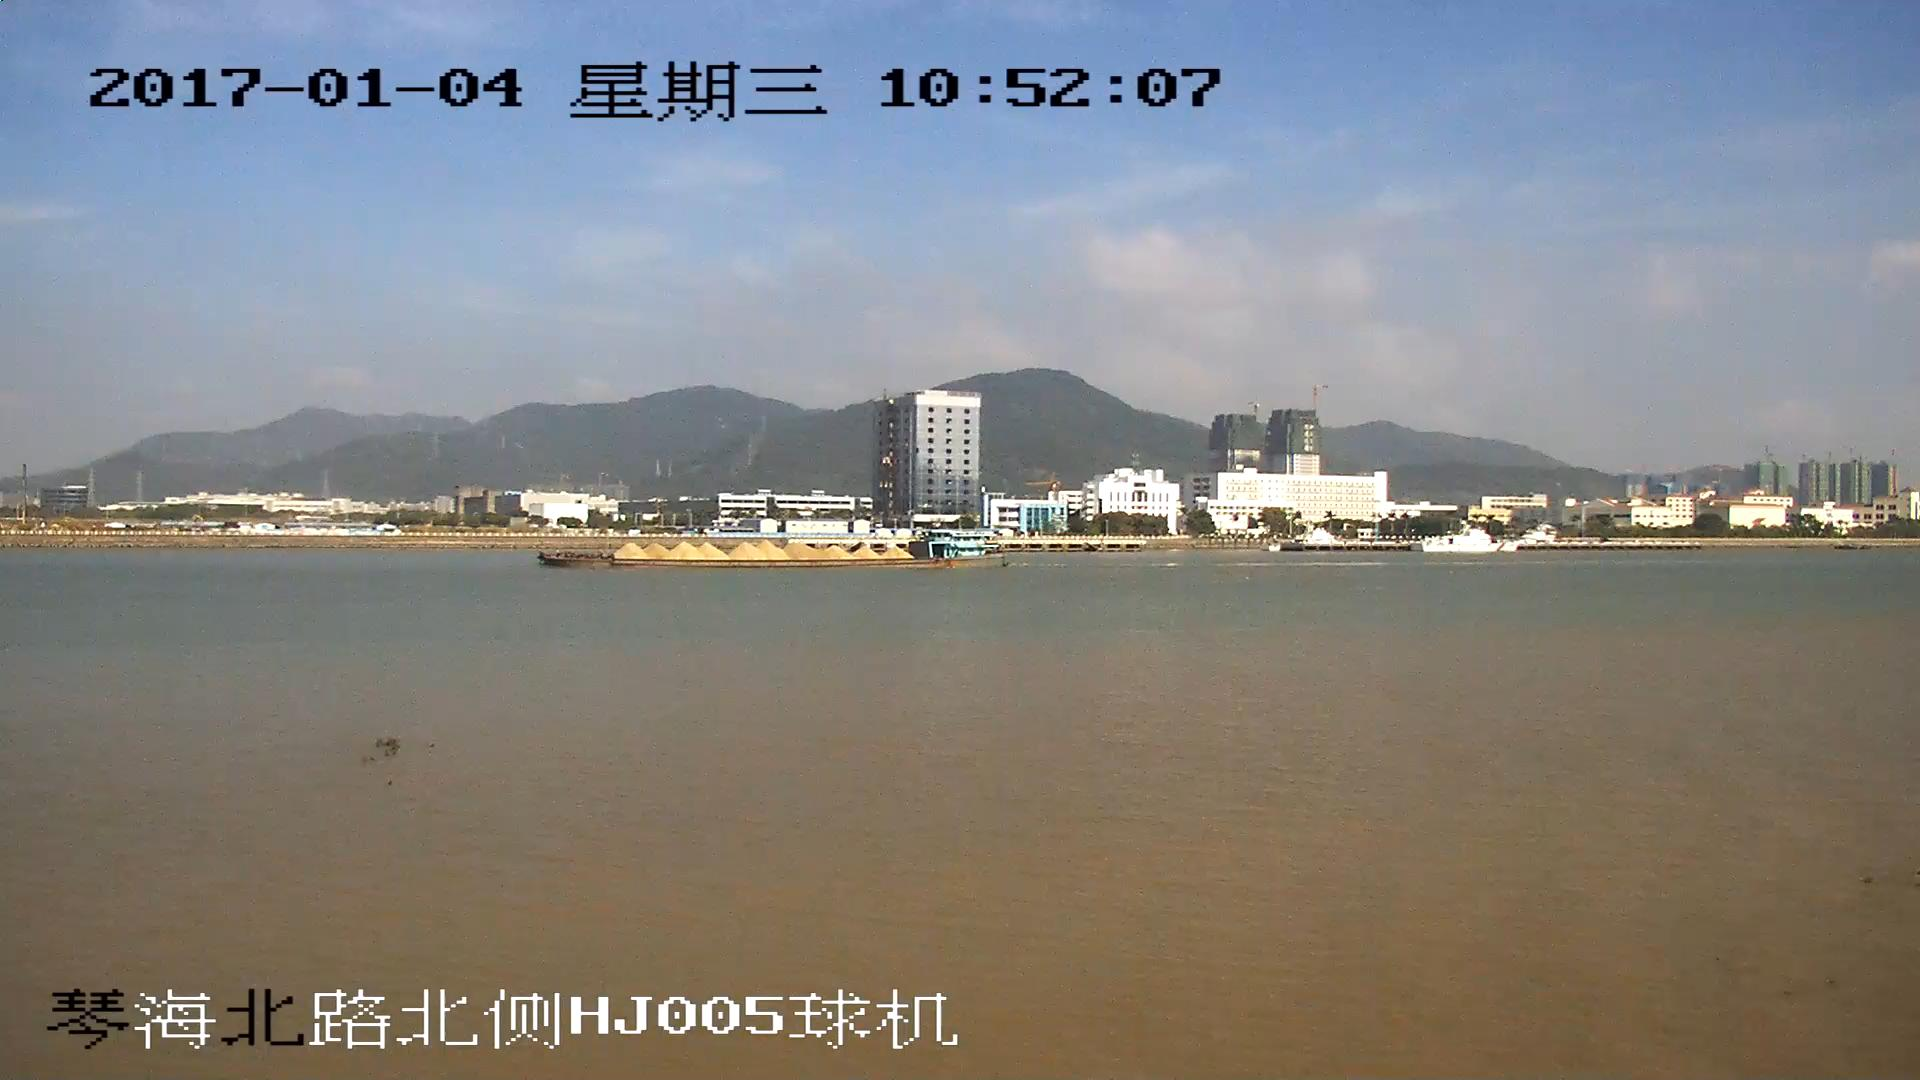ore carrier: (538, 534, 1000, 566)
